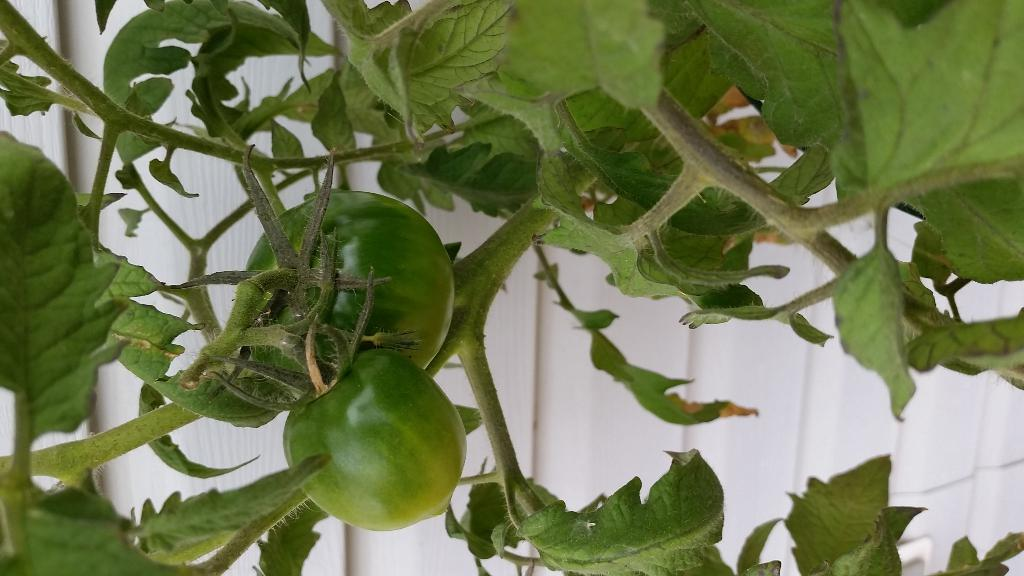Tomato: (246, 186, 455, 371), (275, 344, 469, 533)
